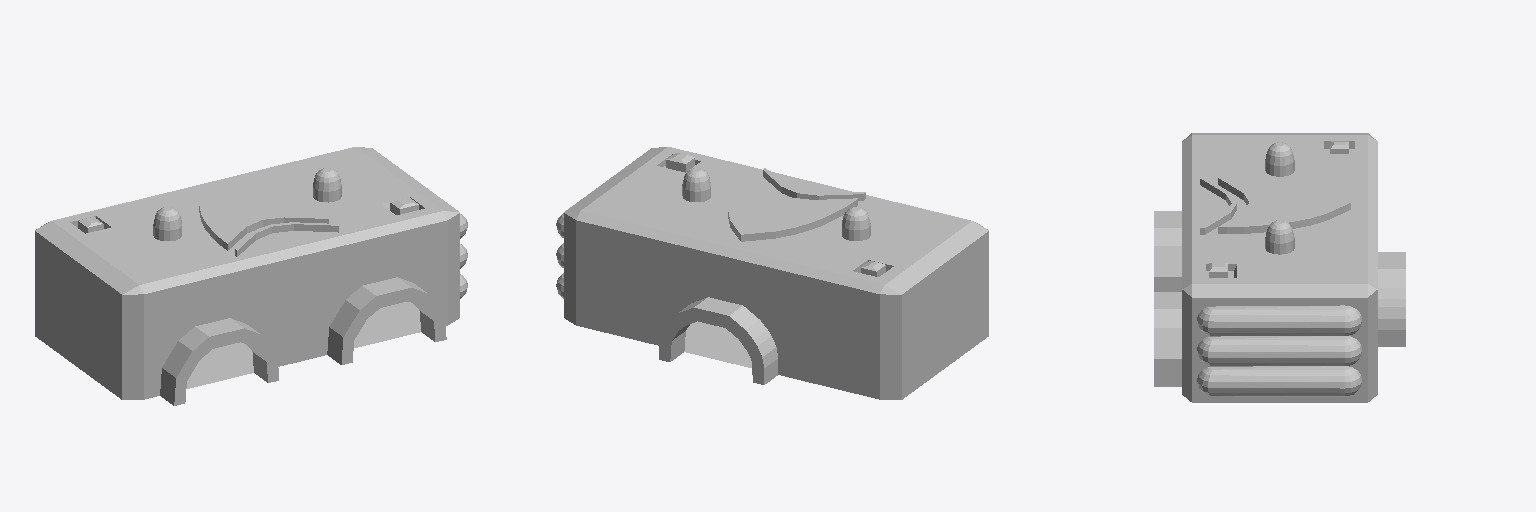
Rendered from XorGate.obj.
The picture shows the model from 3 angles: view 1: azimuth 30°, elevation 25°; view 2: azimuth 150°, elevation 25°; view 3: azimuth 270°, elevation 25°; orthographic projection.
Parts seen in each view (by area): view 1: Gate_OR.018_Cube.007; view 2: Gate_OR.018_Cube.007; view 3: Gate_OR.018_Cube.007.
Boxes of the visible parts, x1=… form: Gate_OR.018_Cube.007: x1=35, y1=147, x2=467, y2=405; Gate_OR.018_Cube.007: x1=556, y1=147, x2=988, y2=399; Gate_OR.018_Cube.007: x1=1154, y1=133, x2=1405, y2=402.
Bounding box in the file's own units: 8.45 × 3.13 × 5.19.